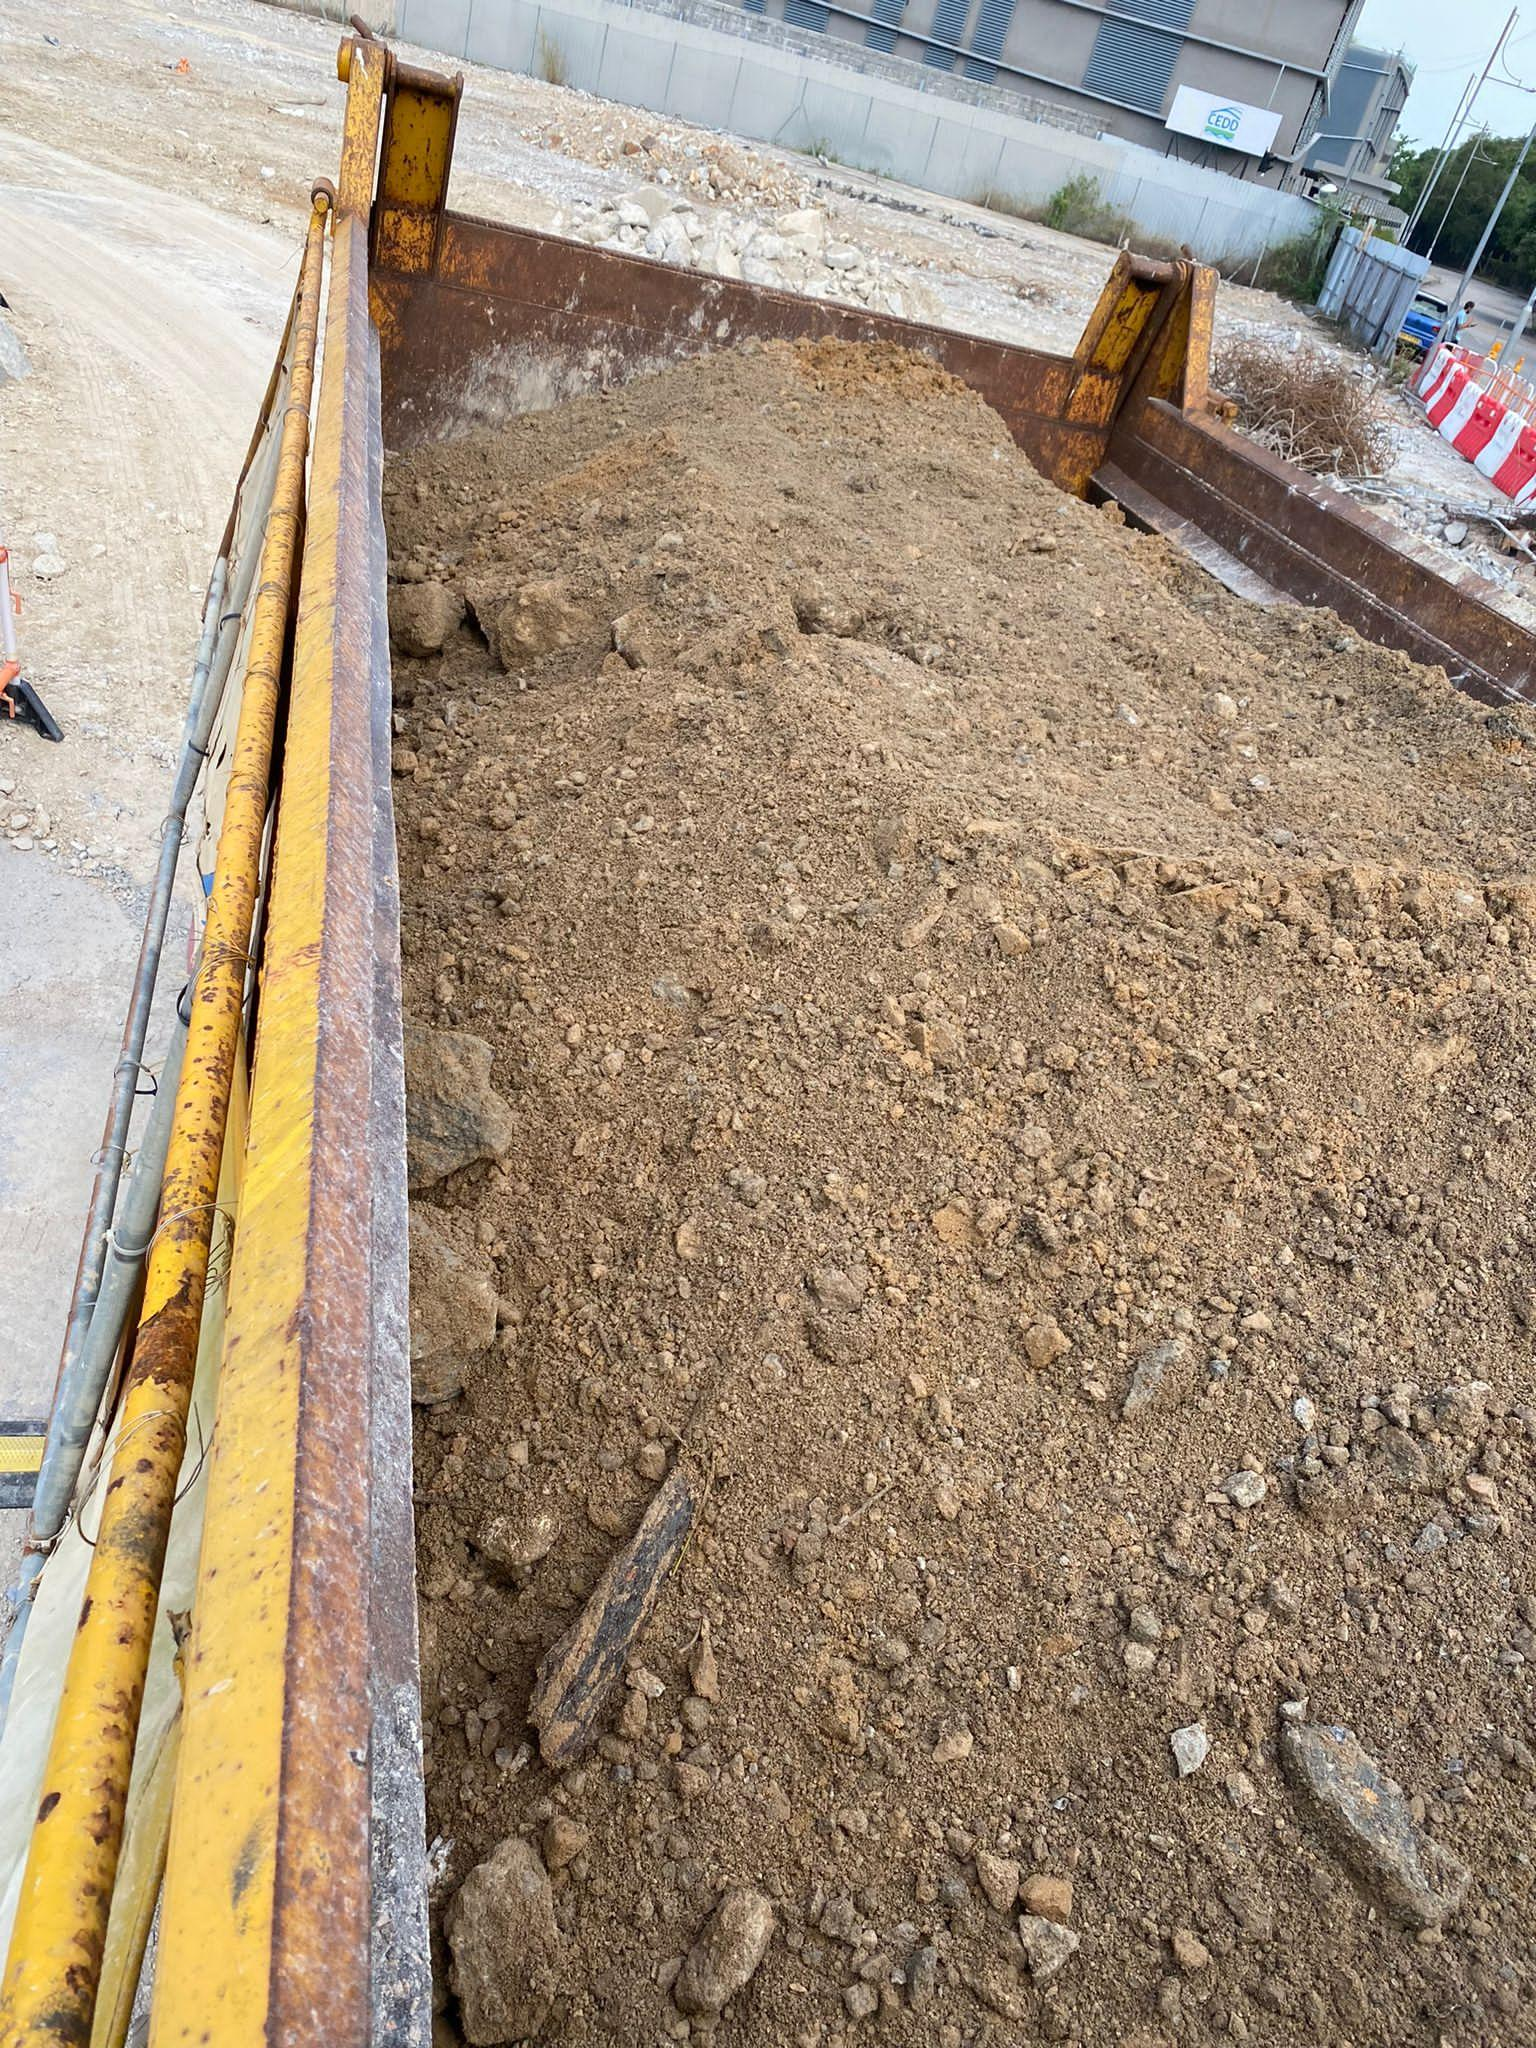dry: (400, 310, 1226, 2048)
